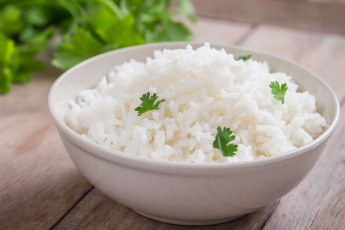plain rice: (76, 47, 312, 159)
